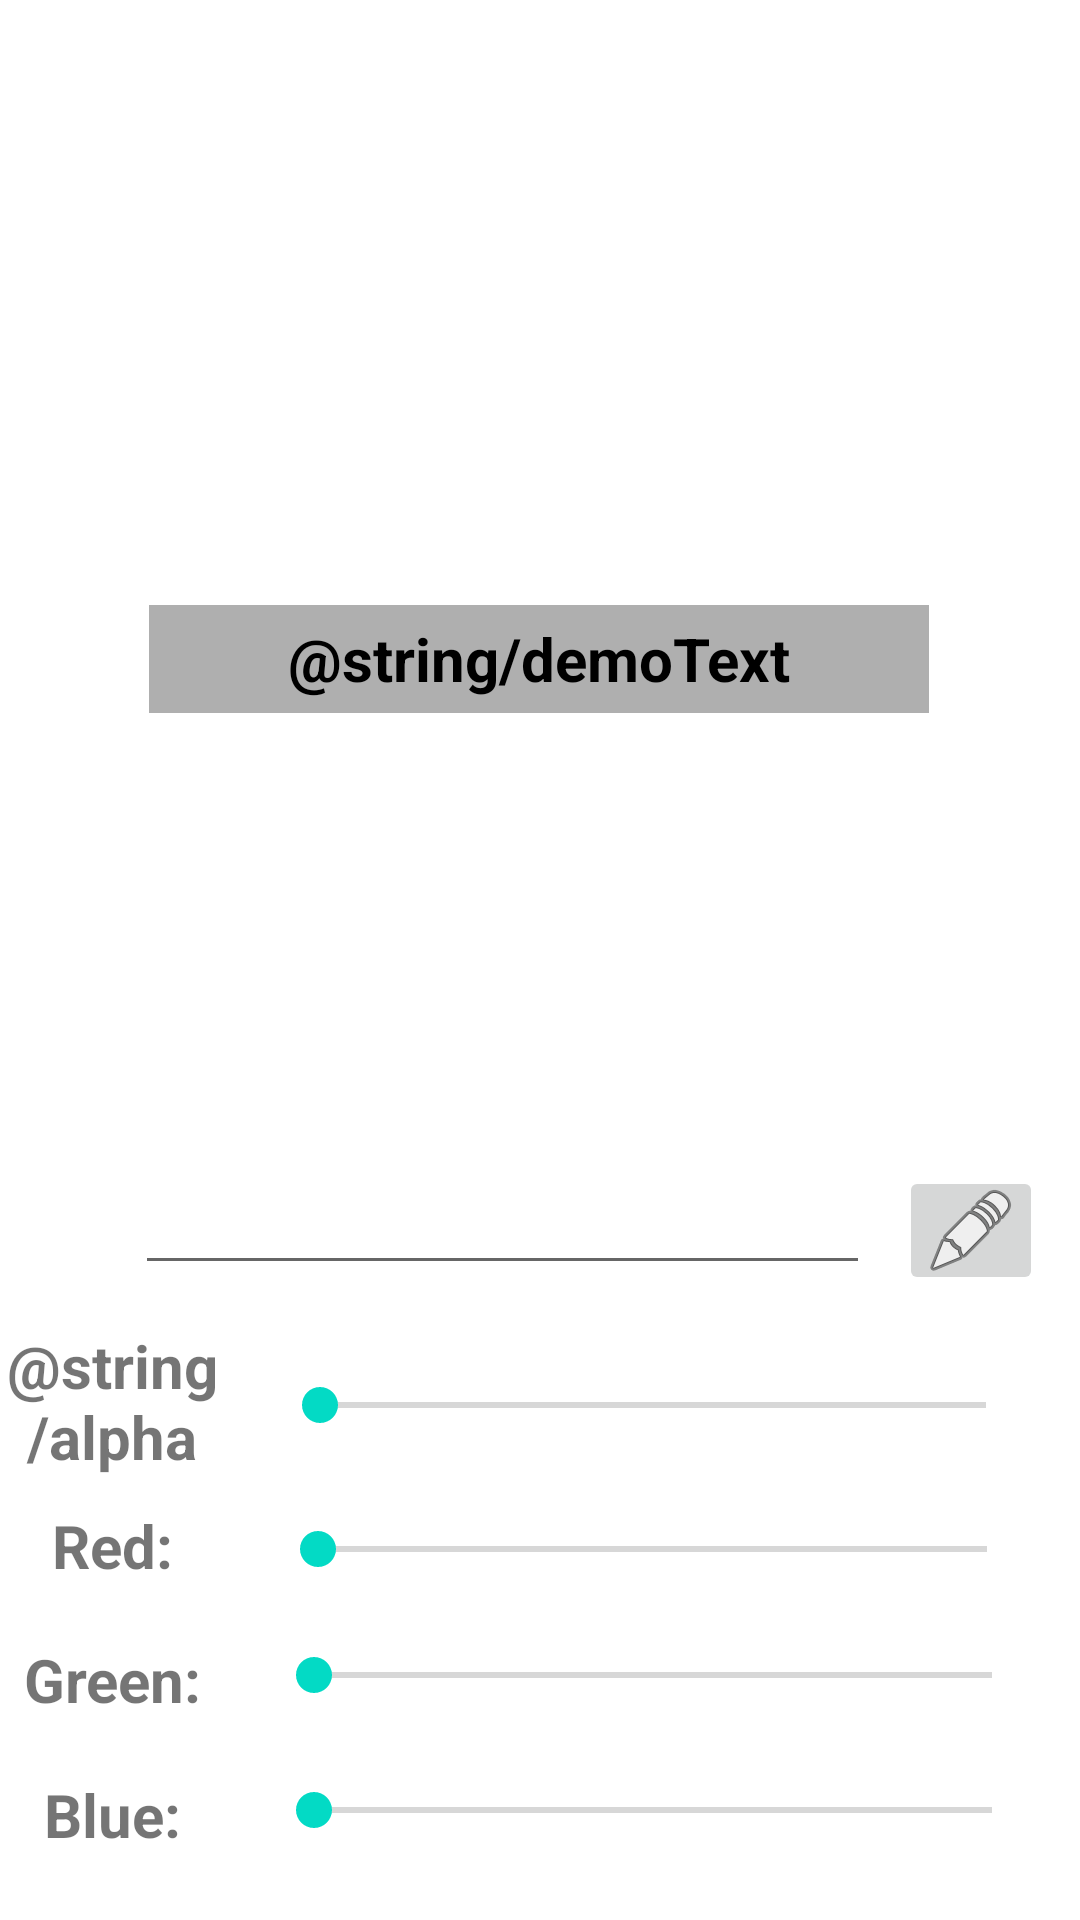

Where to tap for icons on this 1080w x 1920h app screen, as (x,y):
edit: (971,1230)
